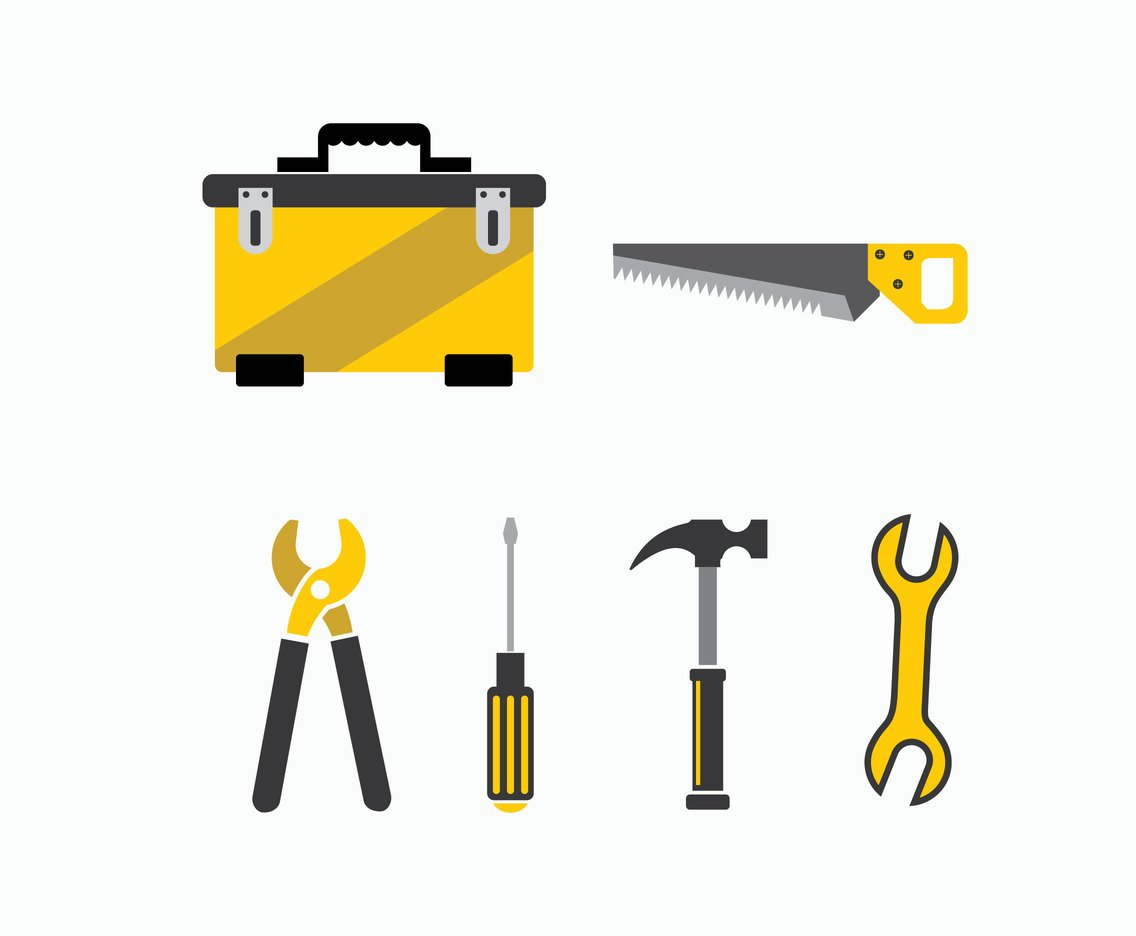Job: (835, 495, 988, 842)
